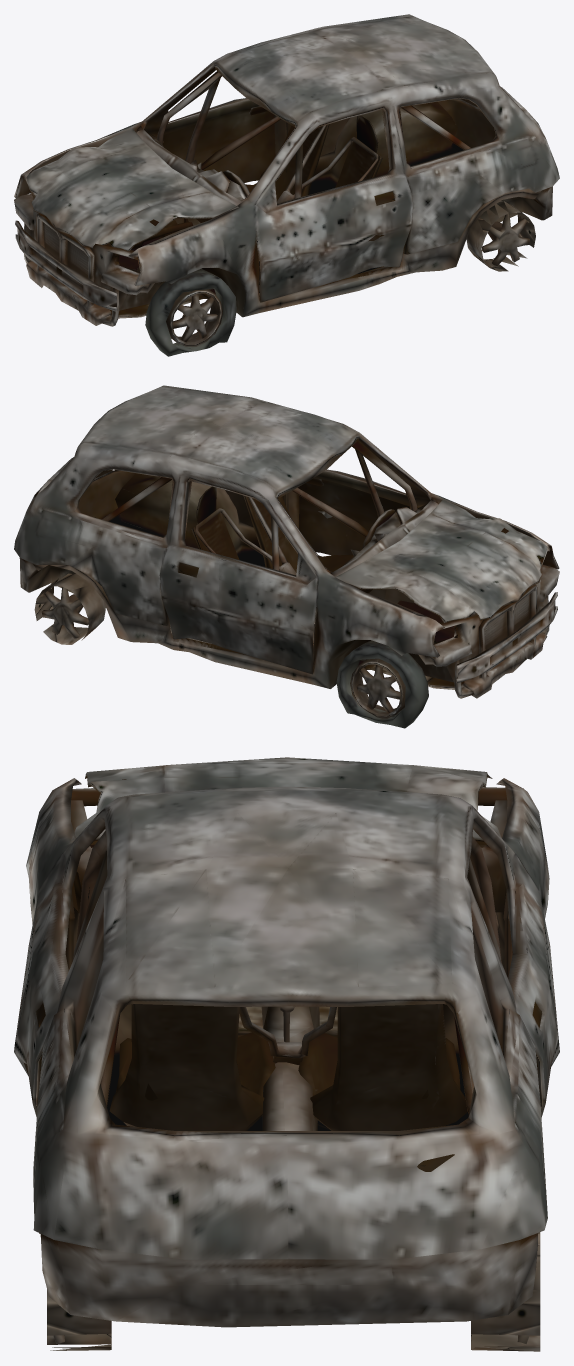
File: wreck_1.glb
The picture shows the model from 3 angles, top to bottom: view 1: azimuth 30°, elevation 25°; view 2: azimuth 150°, elevation 25°; view 3: azimuth 270°, elevation 25°; orthographic projection. The views are drawn at different scales.
Visible parts, largest first — view 1: geometry_0; view 2: geometry_0; view 3: geometry_0.
Boxes of the visible parts, bbox=[...] form: geometry_0: bbox=[14, 14, 559, 356]; geometry_0: bbox=[14, 385, 559, 728]; geometry_0: bbox=[14, 757, 559, 1351].
Size of the model in its own units: 0.9521 by 0.3872 by 0.4858.
Materials: 1 (1 with a texture image).
